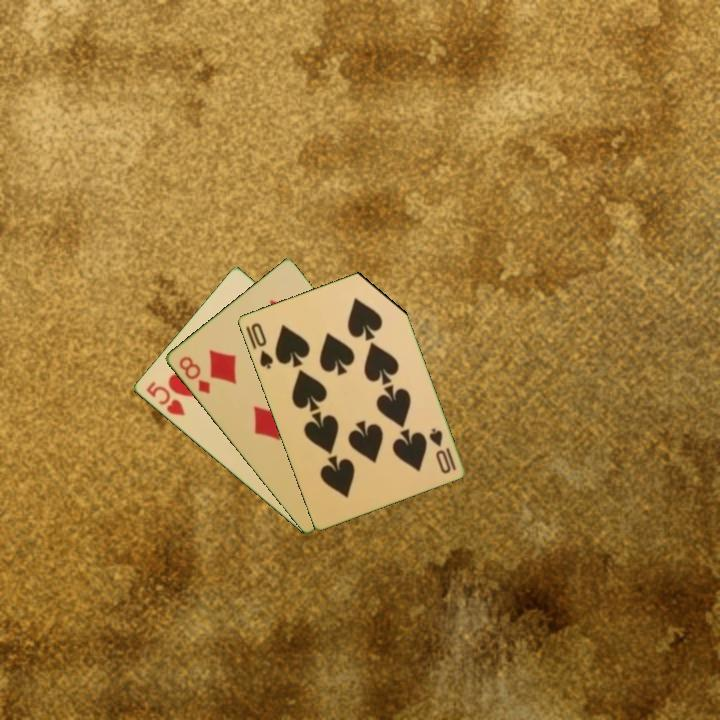10s: (425, 424, 459, 476), (247, 319, 276, 371)
5h: (142, 378, 188, 419)
8d: (175, 352, 213, 397)
